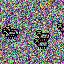sheep: (34, 37, 48, 50), (36, 30, 50, 41)
